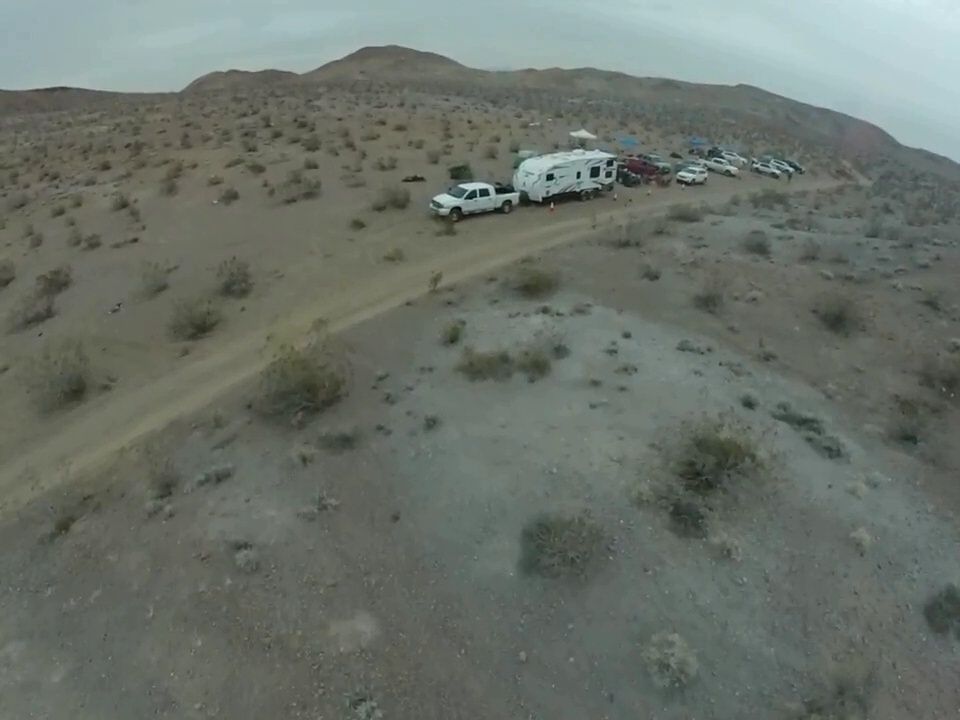araba: (673, 163, 710, 186), (750, 161, 781, 180)
kamyonet: (429, 179, 519, 220)
otobus: (512, 149, 618, 204)
